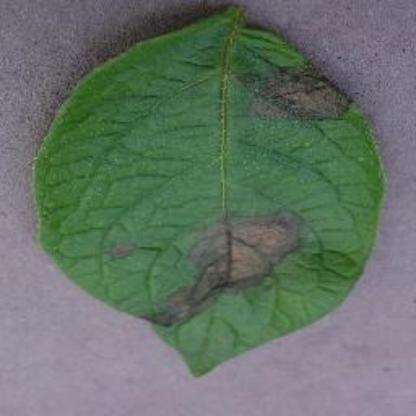Late-Blight: (35, 3, 388, 379)
